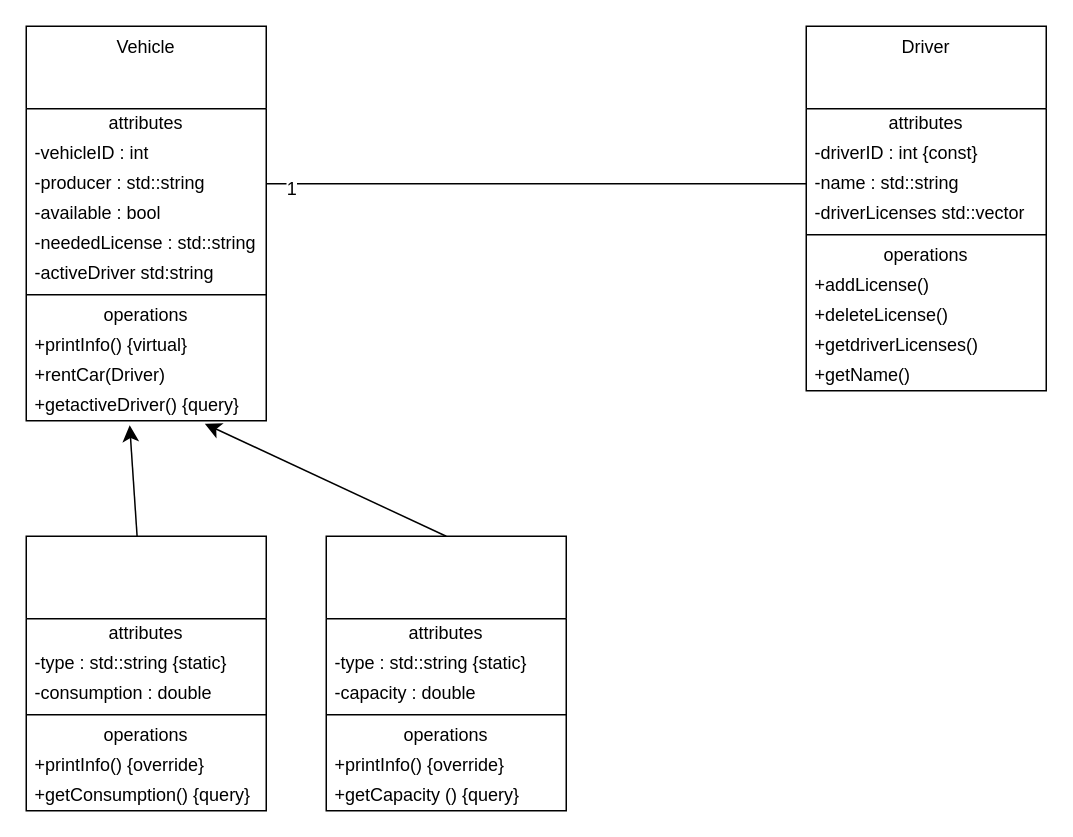
The diagram is 1073 pixels wide and 837 high, and some of its shapes have lost their labels. Here are the shapes that lost their labels. From the top down, the box of each, then its label:
(25, 535, 266, 811): Combustion
(325, 535, 566, 811): Electric
